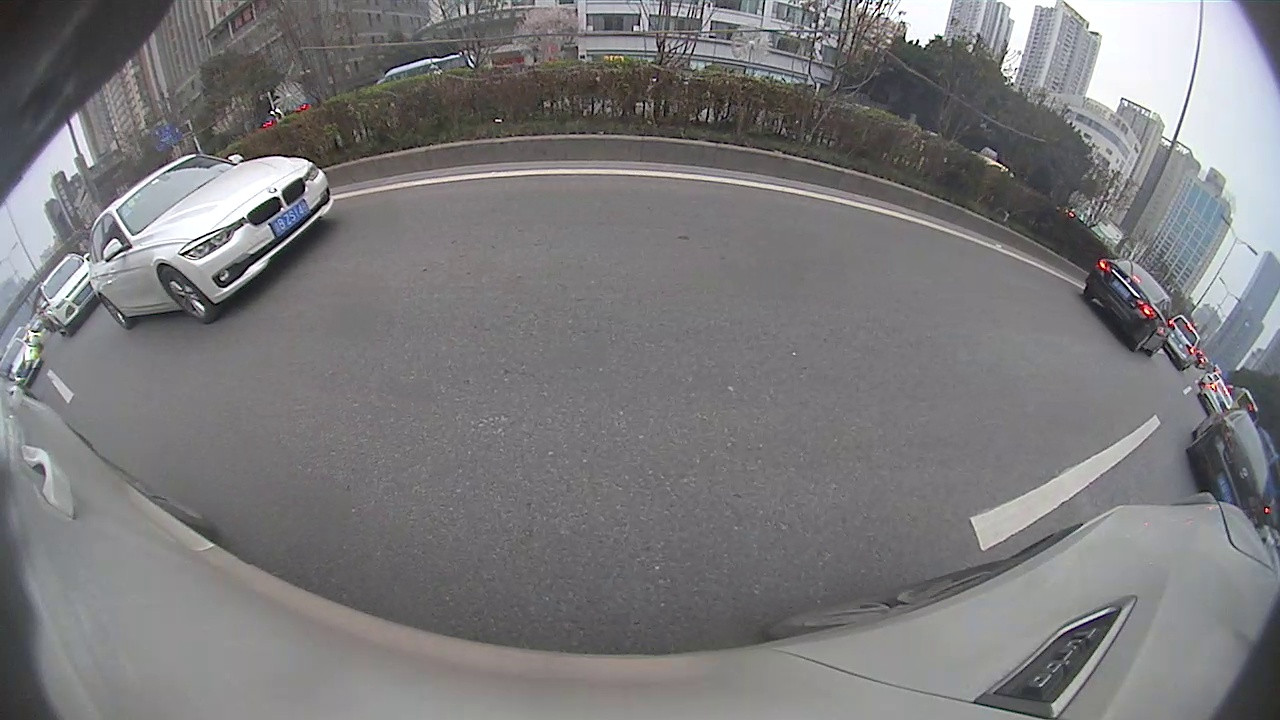bus: (818, 126, 935, 182), (415, 169, 463, 202)
car: (716, 128, 913, 240), (1130, 275, 1279, 410), (96, 255, 225, 352), (883, 160, 952, 237), (620, 158, 651, 184), (716, 159, 739, 183), (654, 161, 675, 180)
front: (1152, 305, 1187, 349), (717, 181, 730, 209)
person: (992, 191, 1010, 234), (1114, 229, 1128, 283), (1078, 211, 1090, 261)
rear: (759, 187, 786, 231)
rider: (698, 160, 717, 181)
